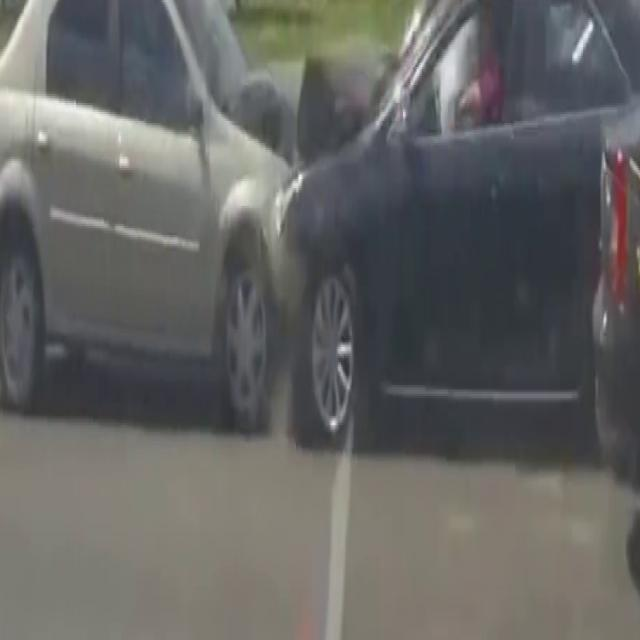accident: (109, 8, 537, 480)
